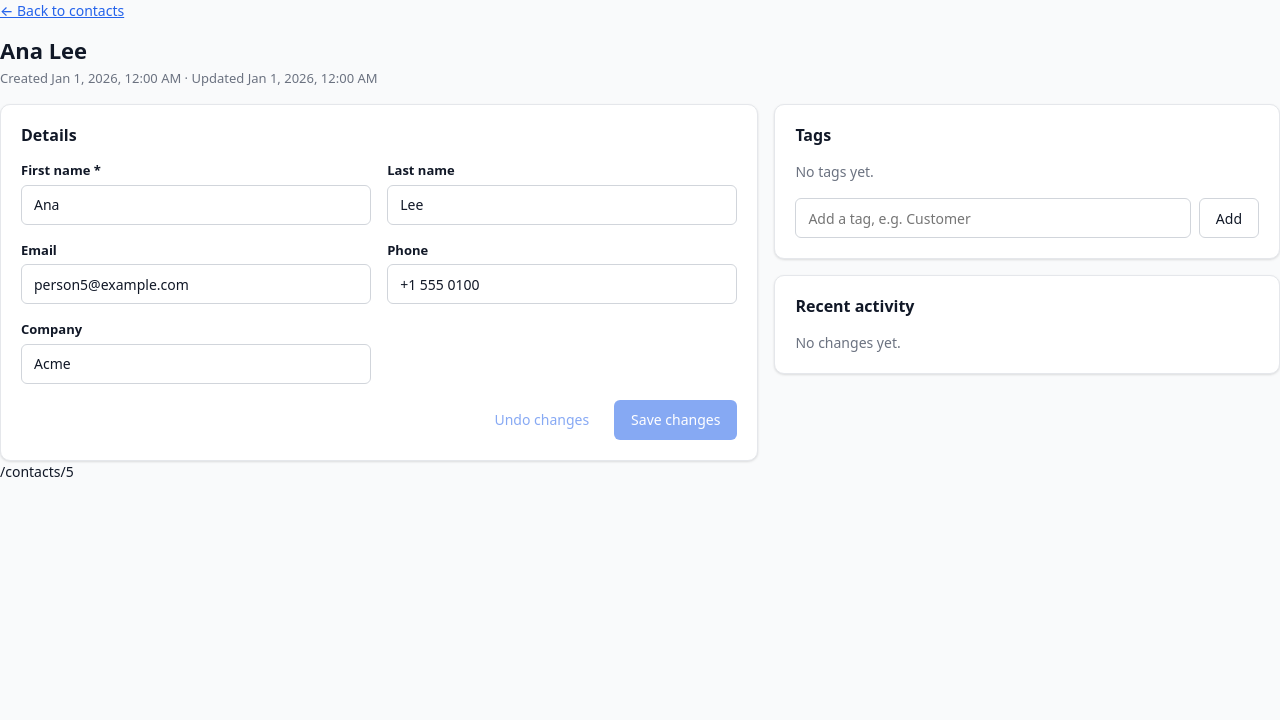
ContactDetailPage › can discard my changes after a conflict and show the latest version
Check: the heading "Ana Lee" is shown, box [0,35,87,65]
Replace the text in the field labelled "First name *" with "Annie" at (196, 204), box [21,184,371,224]
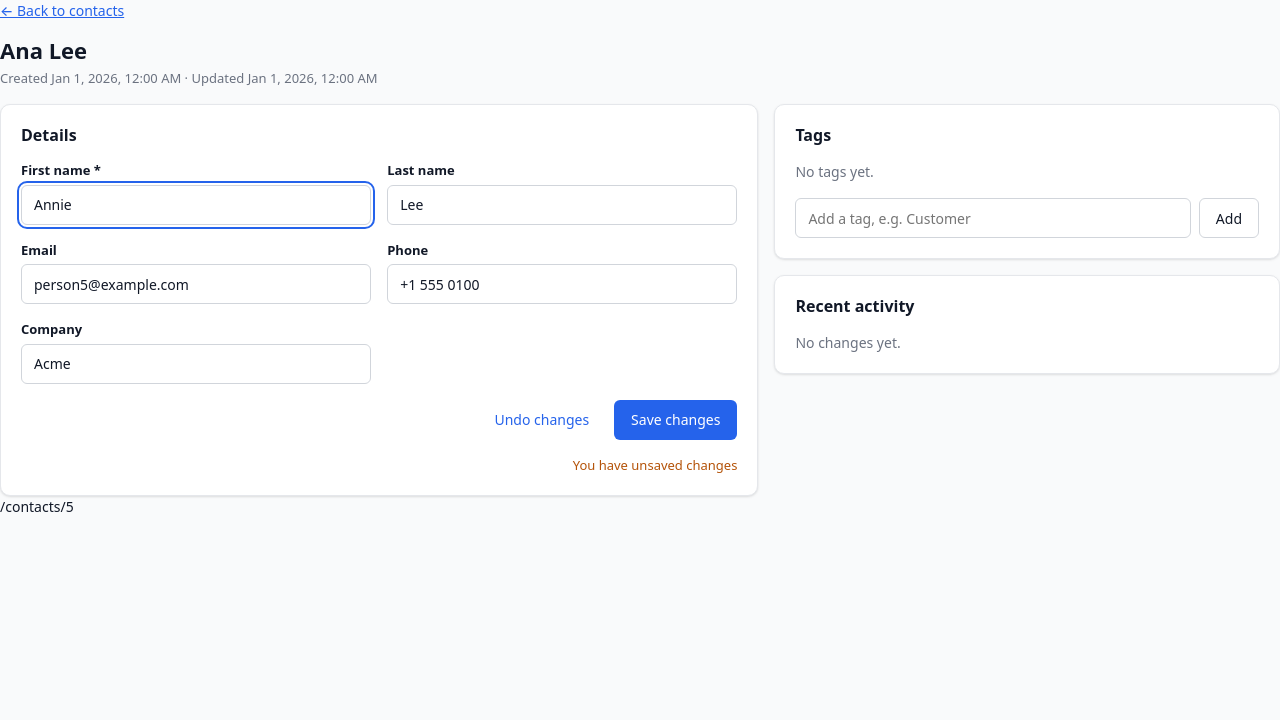
Click the button "Save changes" at (676, 420), box [614,400,737,440]
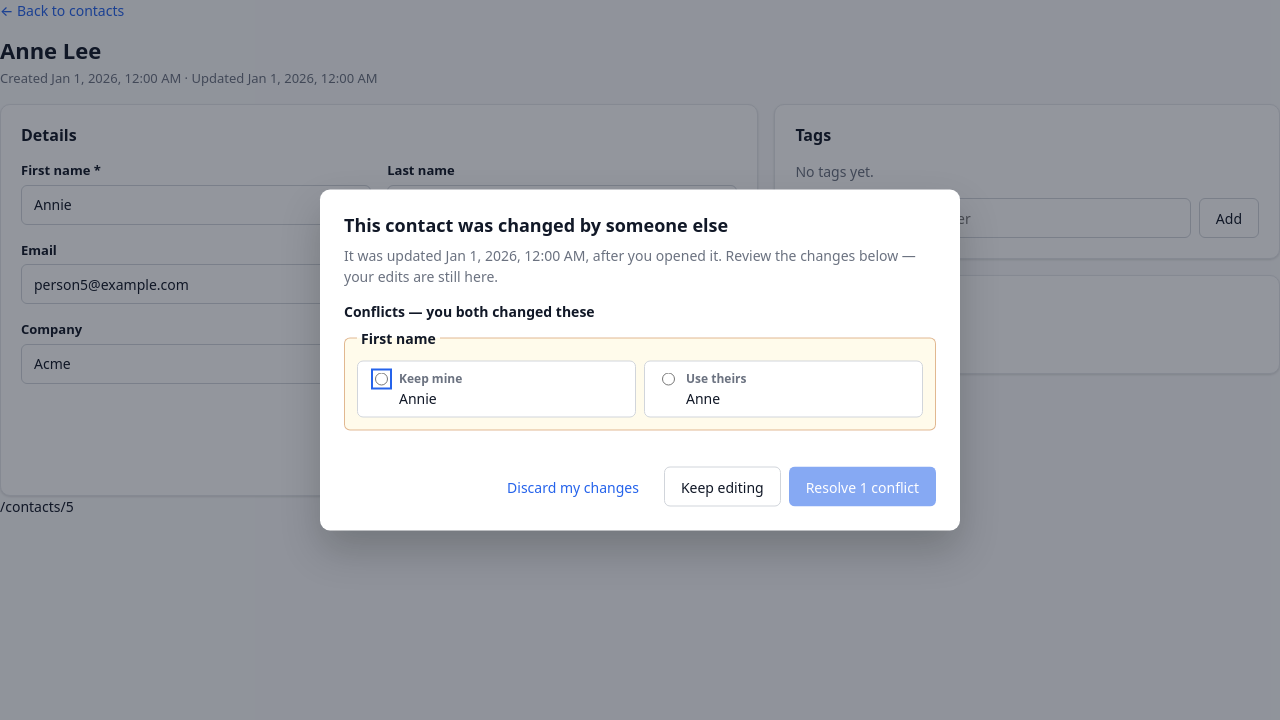
Click the button "Discard my changes" at (573, 486), box [490,466,656,506]
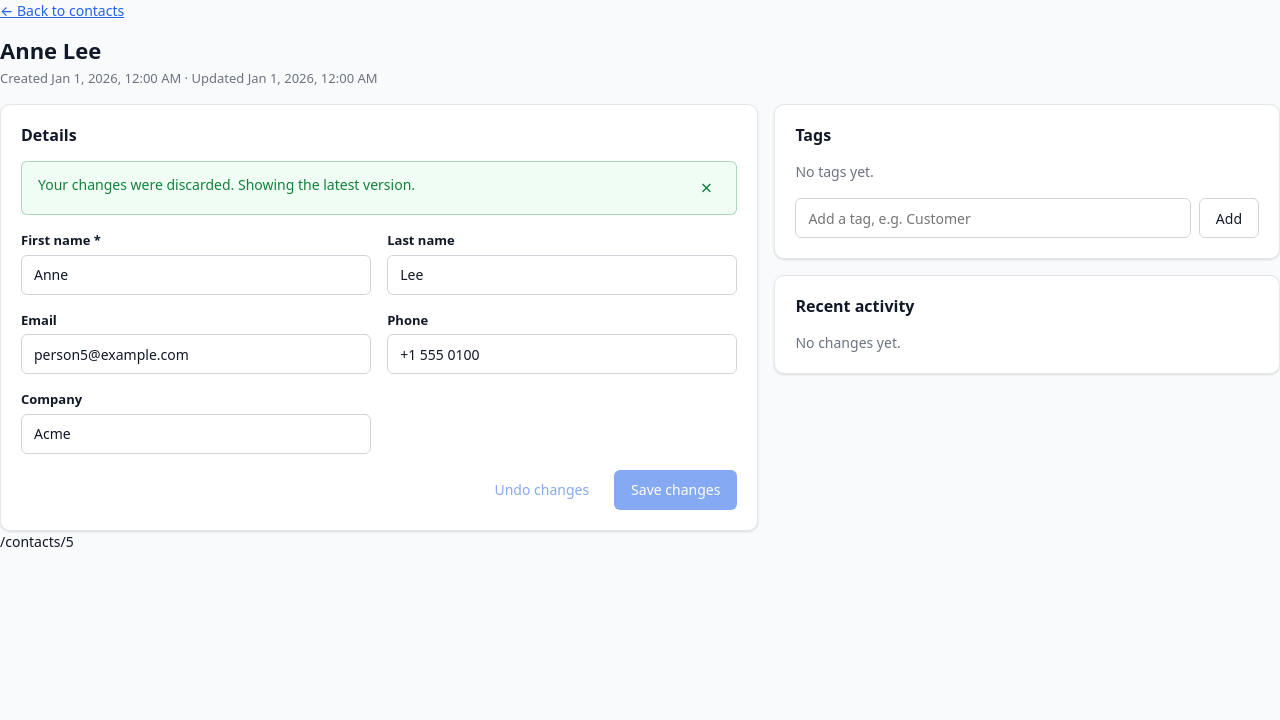
Check: the text "Your changes were discarded. Showing the latest version." is shown, box [38,174,415,195]
